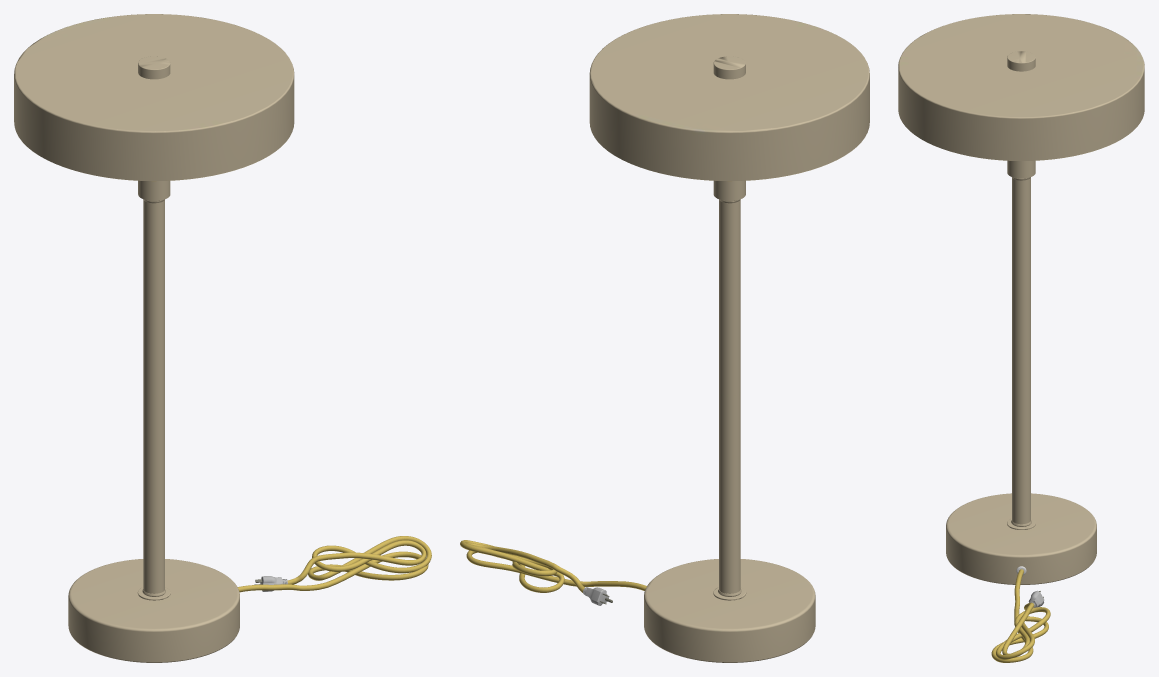
3 renders of one model, left to right at view 1: azimuth 30°, elevation 25°; view 2: azimuth 150°, elevation 25°; view 3: azimuth 270°, elevation 25°, orthographic. The views are drawn at different scales.
Visible parts, largest first — view 1: RootNode; view 2: RootNode; view 3: RootNode.
Part boxes in pixels (box(x1,y1,x2,y2)): RootNode: box(14, 14, 431, 662); RootNode: box(460, 14, 869, 662); RootNode: box(898, 14, 1144, 662).
Bounding box in the file's own units: 0.3694 × 0.508 × 0.2286.
Materials: 1 (1 with a texture image).
